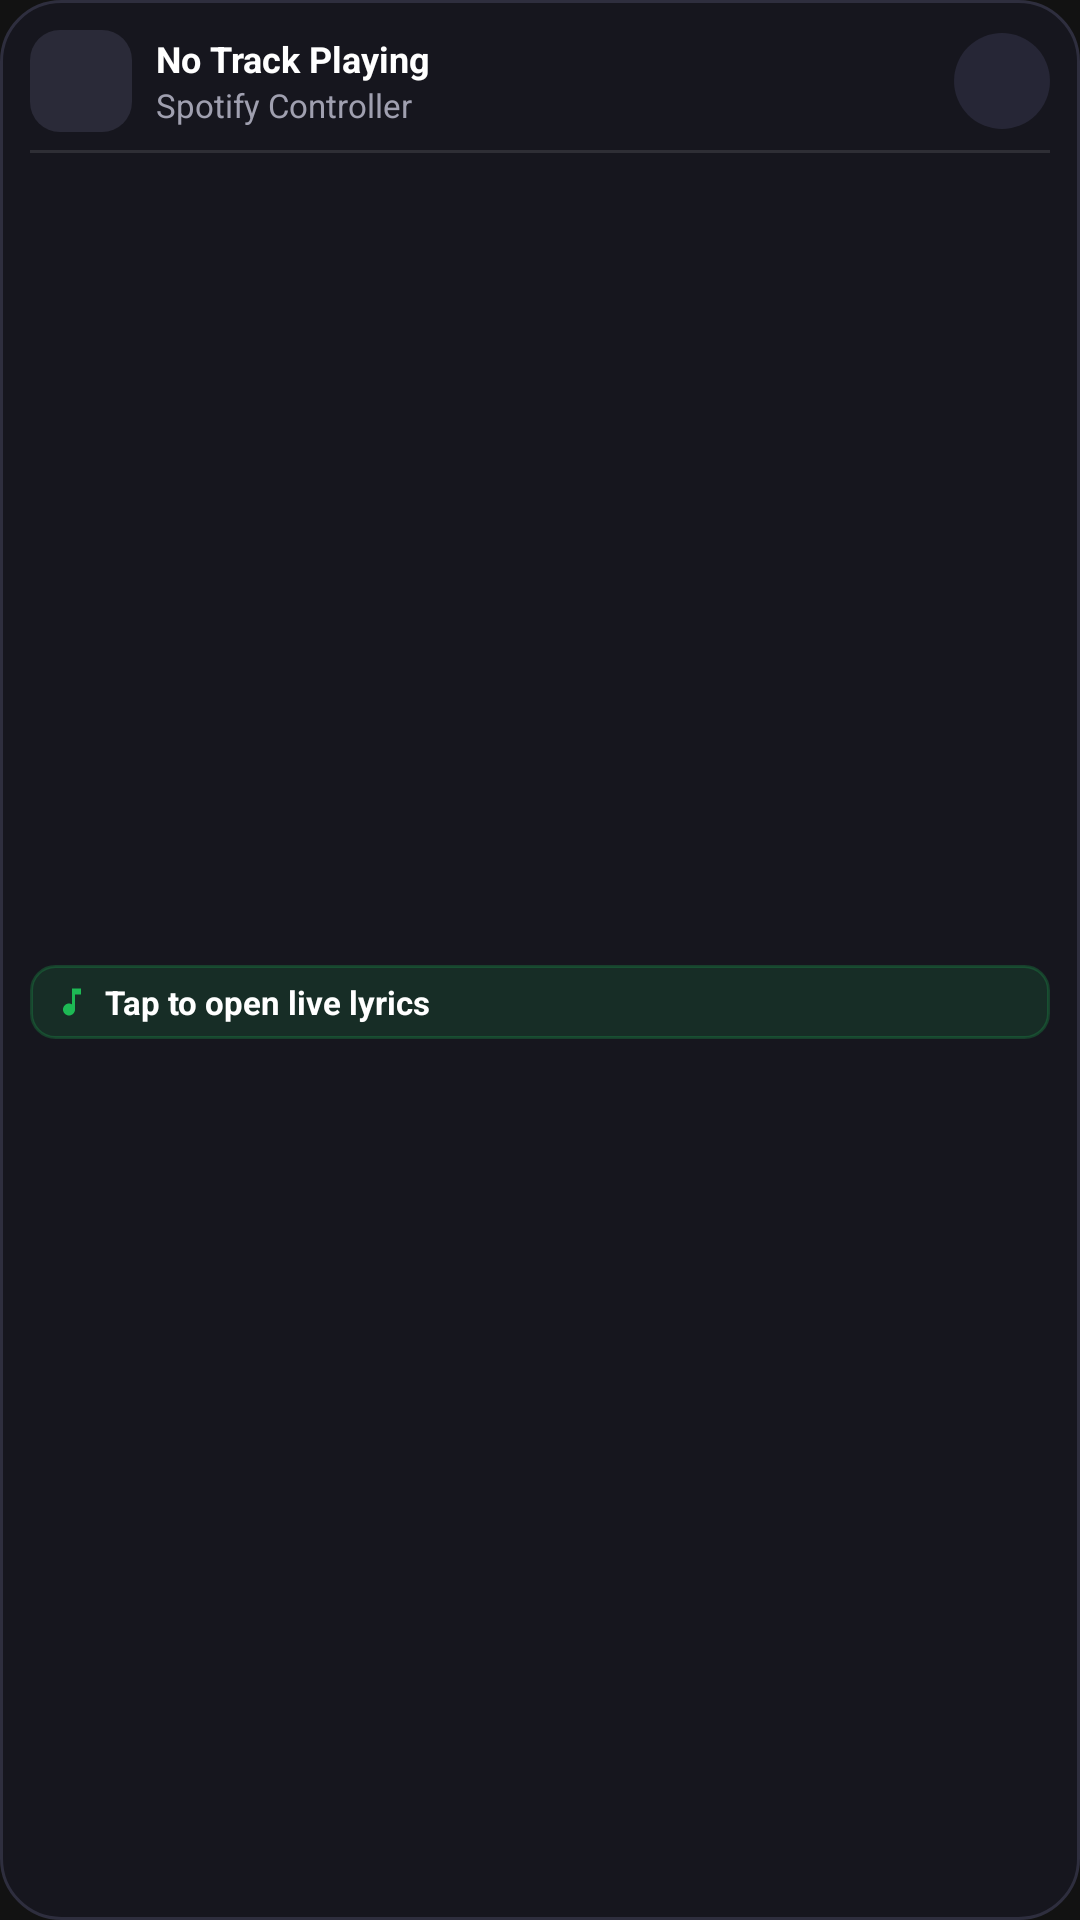

Icon bounding boxes for this 1080px x 1920px phone screenshot, format (x1, y1, x2, y2):
widget lyrics: (63, 988, 81, 1016)
